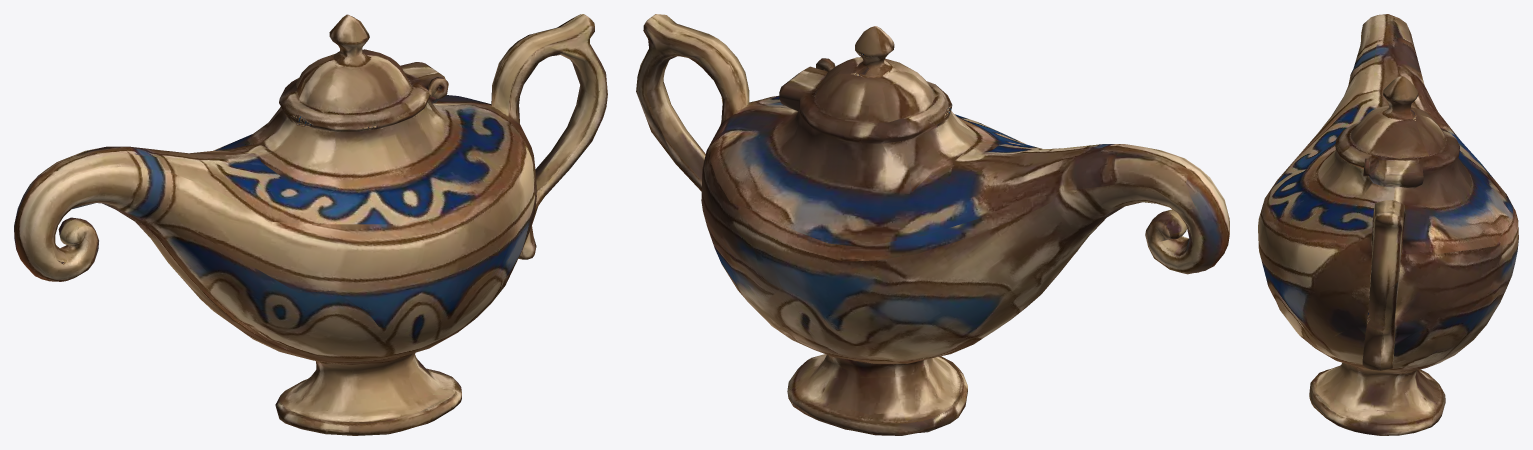
The model's file is lamp-lite.glb.
3 views of the same model, side by side, from view 1: azimuth 30°, elevation 25°; view 2: azimuth 150°, elevation 25°; view 3: azimuth 270°, elevation 25° (orthographic). The views are drawn at different scales.
Parts seen in each view (by area): view 1: geometry_0; view 2: geometry_0; view 3: geometry_0.
Part boxes in pixels (bbox=[...]): geometry_0: bbox=[14, 14, 607, 435]; geometry_0: bbox=[636, 14, 1229, 435]; geometry_0: bbox=[1258, 14, 1518, 435].
Size of the model in its own units: 0.935 by 0.5886 by 0.4251.
Materials: 1 (1 with a texture image).
